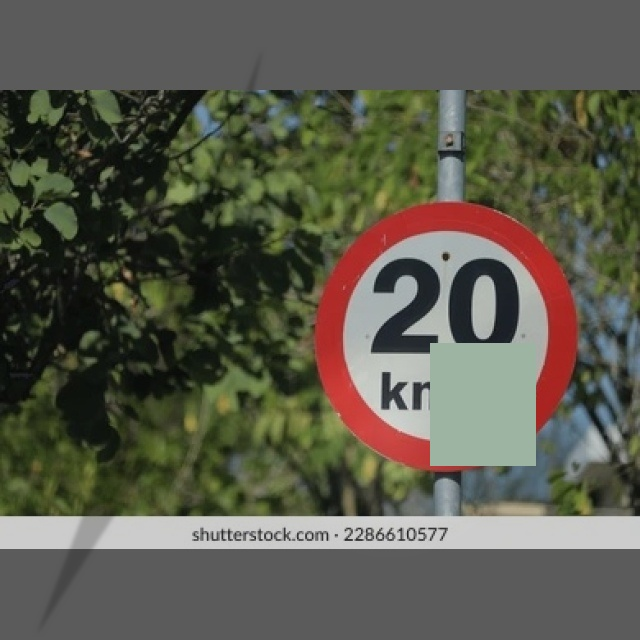Speed_Limit_20: (322, 206, 580, 473)
